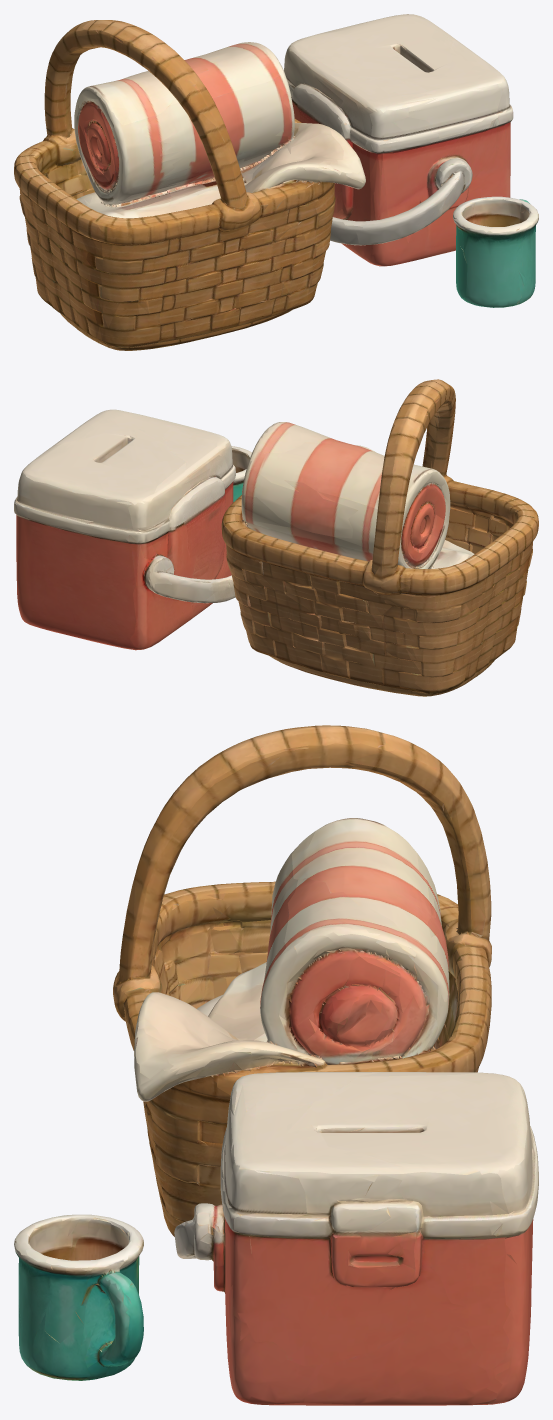
Rendered from camping-supplies-cluster-meshy6-web-v1.glb.
3 renders of one model, top to bottom at view 1: azimuth 30°, elevation 25°; view 2: azimuth 150°, elevation 25°; view 3: azimuth 270°, elevation 25°, orthographic. The views are drawn at different scales.
Size of the model in its own units: 1.9 by 1.16 by 1.26.
1 material, 1 textured.
